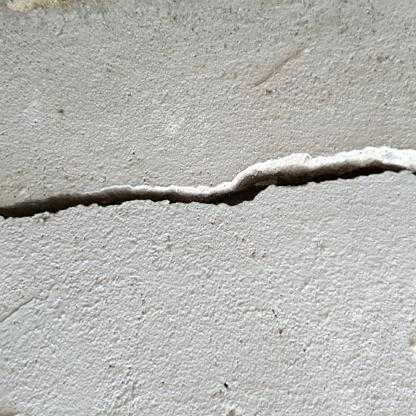crack: (0, 160, 412, 222)
